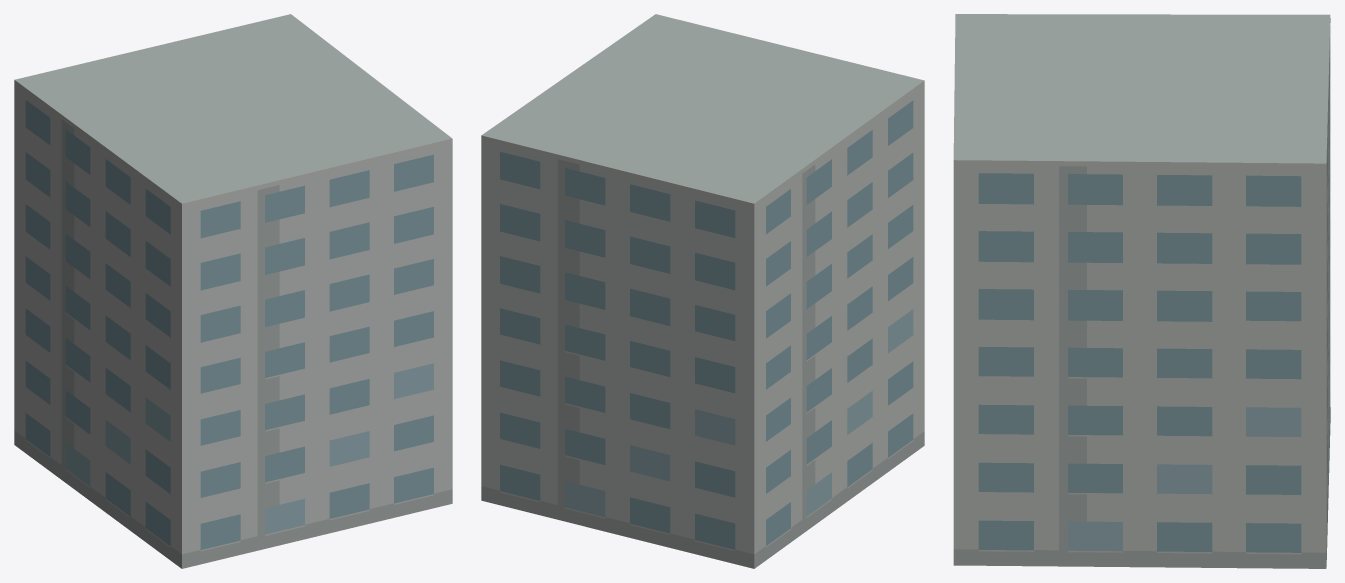
File: survey-upis-32774566.glb
3 renders of one model, left to right at view 1: azimuth 30°, elevation 25°; view 2: azimuth 150°, elevation 25°; view 3: azimuth 270°, elevation 25°, orthographic. The views are drawn at different scales.
Visible parts, largest first — view 1: survey-upis-32774566.tmp; view 2: survey-upis-32774566.tmp; view 3: survey-upis-32774566.tmp.
Part boxes in pixels (left/top/right/bottom): survey-upis-32774566.tmp: left=14, top=14, right=452, bottom=568; survey-upis-32774566.tmp: left=481, top=14, right=924, bottom=568; survey-upis-32774566.tmp: left=953, top=14, right=1330, bottom=568.
Size of the model in its own units: 15.09 by 19.05 by 16.07.
